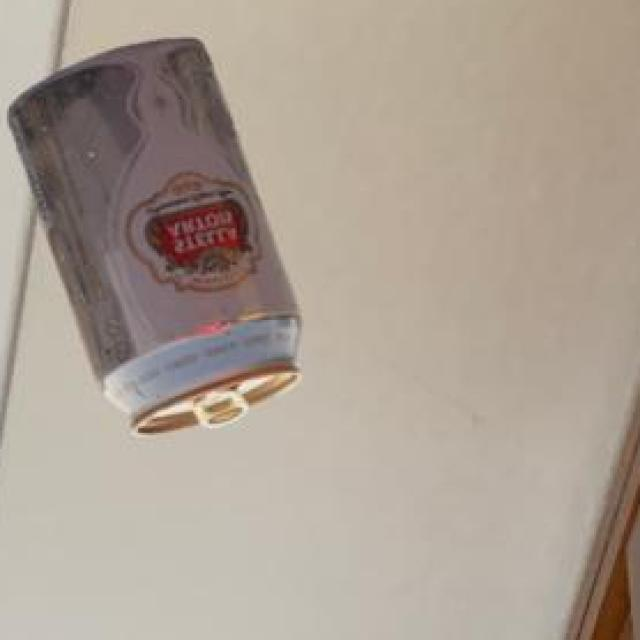logam: (13, 36, 305, 434)
